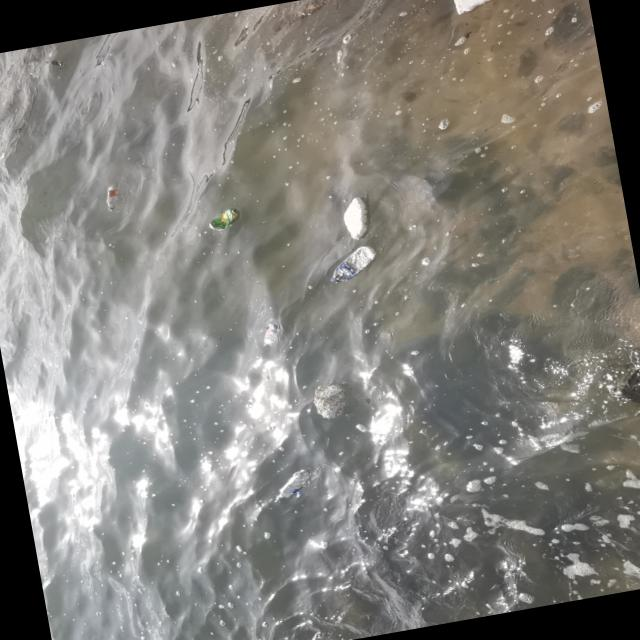can: (205, 206, 242, 233)
foam: (338, 192, 371, 240), (312, 380, 348, 419), (448, 0, 513, 13)
plastic: (326, 244, 380, 282), (269, 467, 313, 502), (101, 182, 122, 212)
unknow: (260, 322, 281, 344)
